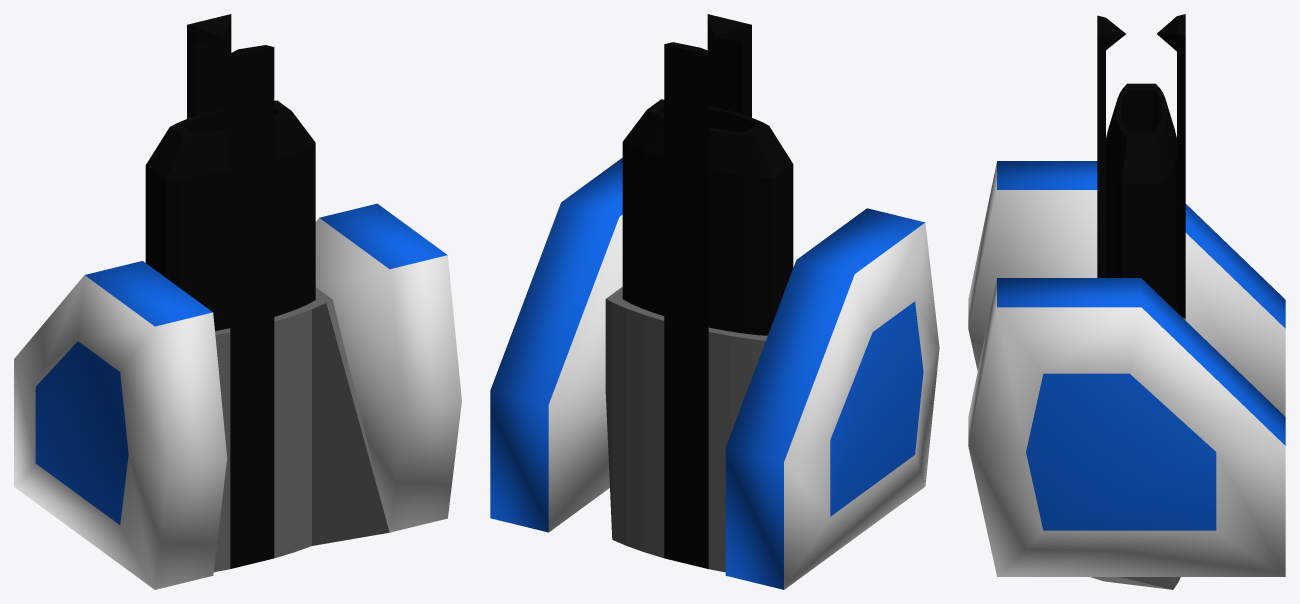
Rendered from Tower Media C.fbx.
The picture shows the model from 3 angles, left to right: view 1: azimuth 30°, elevation 25°; view 2: azimuth 150°, elevation 25°; view 3: azimuth 270°, elevation 25°; orthographic projection. The views are drawn at different scales.
Parts seen in each view (by area): view 1: Cube; view 2: Cube; view 3: Cube.
Part boxes in pixels (x1,y1,x2,y2): Cube: (14, 14, 461, 589); Cube: (490, 14, 939, 589); Cube: (968, 14, 1285, 589).
Bounding box in the file's own units: 260 × 401 × 220.
